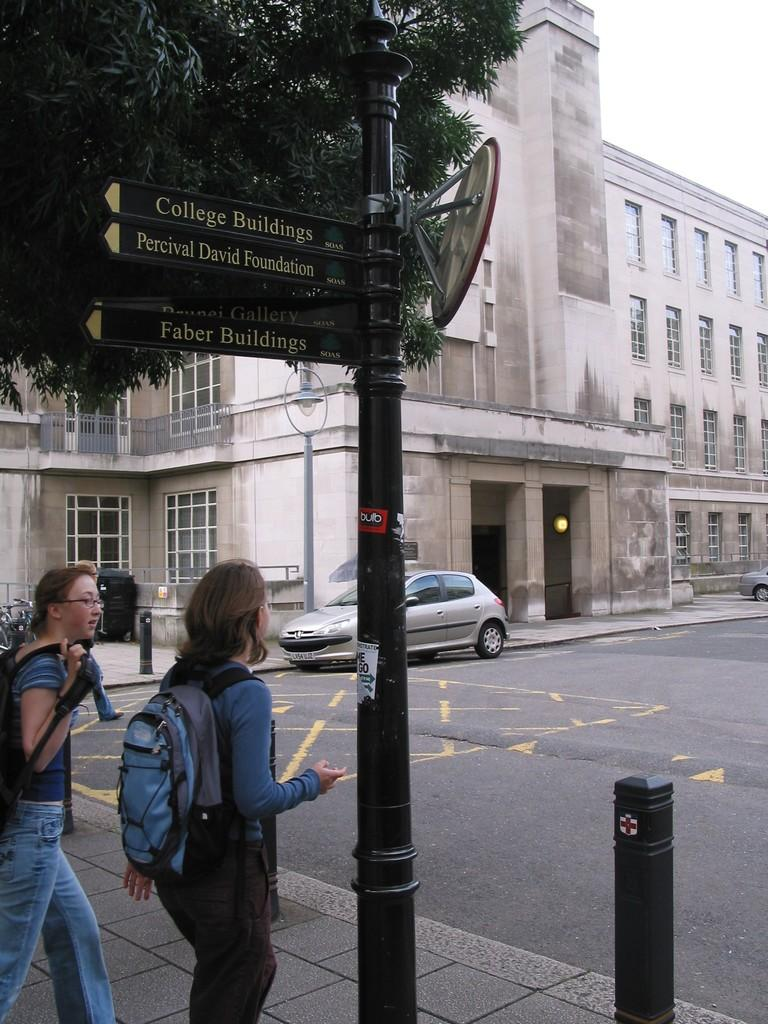Luggage-and-bags: (109, 658, 259, 890), (0, 637, 105, 835)
